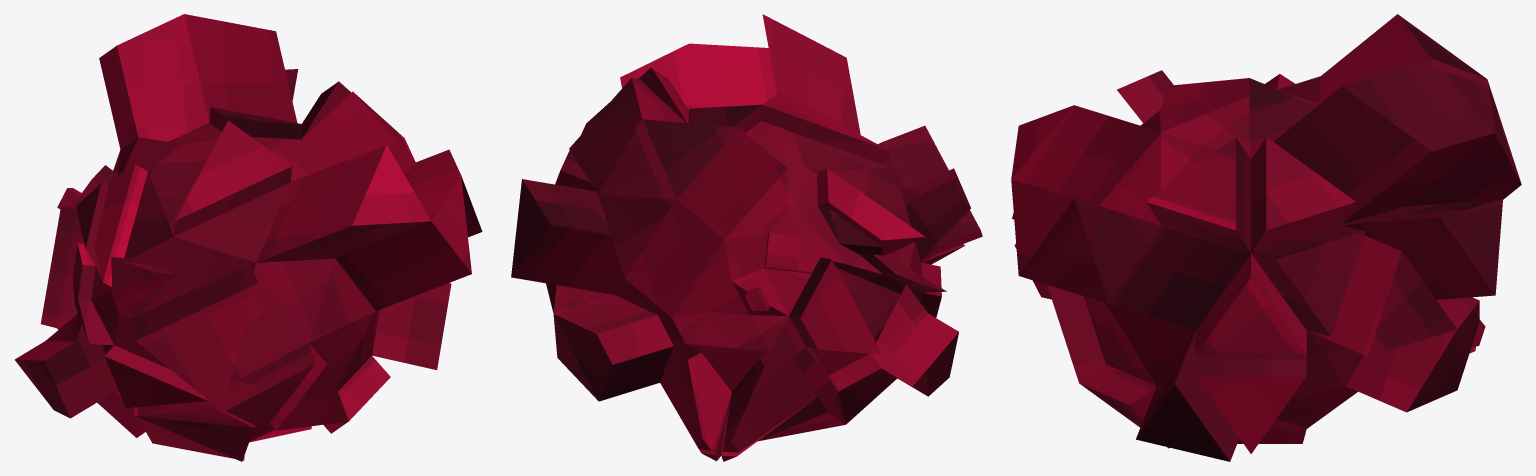
File: asteroid_medium1.fbx
3 views of the same model, side by side, from view 1: azimuth 30°, elevation 25°; view 2: azimuth 150°, elevation 25°; view 3: azimuth 270°, elevation 25° (orthographic). The views are drawn at different scales.
Visible parts, largest first — view 1: Icosphere; view 2: Icosphere; view 3: Icosphere.
Part boxes in pixels (x1=…): Icosphere: x1=14, y1=14, x2=482, y2=461; Icosphere: x1=511, y1=14, x2=982, y2=461; Icosphere: x1=1011, y1=14, x2=1521, y2=461.
Bounding box in the file's own units: 6.02 × 5.4 × 6.25.
